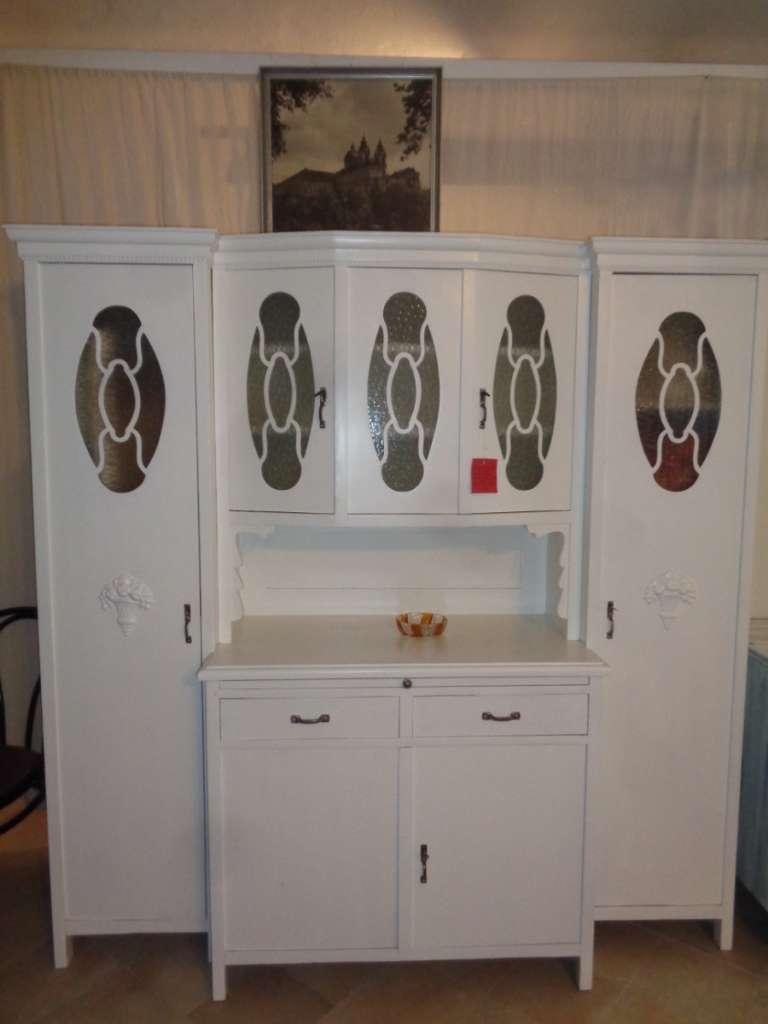cabinet_door: (43, 262, 215, 935), (597, 273, 737, 908), (405, 755, 585, 946), (219, 760, 400, 947), (210, 267, 332, 517), (336, 264, 457, 506), (464, 269, 575, 504), (216, 690, 401, 743), (413, 684, 589, 739)
handle: (598, 593, 625, 648), (174, 600, 198, 652), (310, 382, 332, 438), (472, 383, 493, 438), (481, 705, 524, 731), (288, 710, 334, 734), (416, 842, 433, 888)
